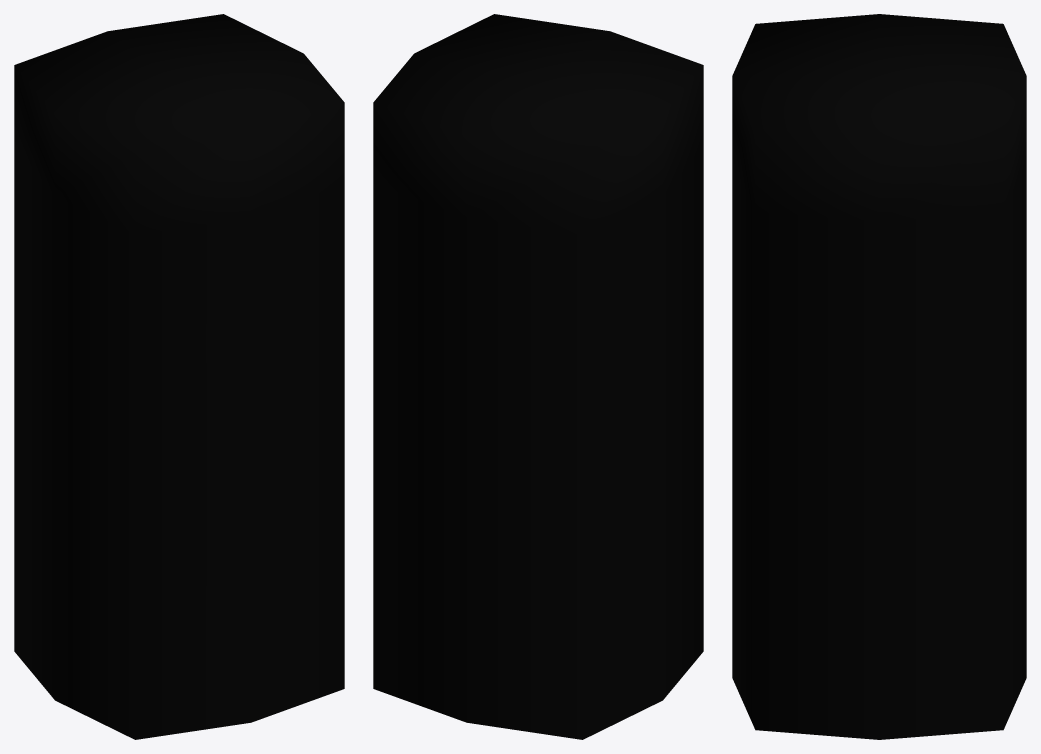
3 renders of one model, left to right at view 1: azimuth 30°, elevation 25°; view 2: azimuth 150°, elevation 25°; view 3: azimuth 270°, elevation 25°, orthographic. The views are drawn at different scales.
Parts seen in each view (by area): view 1: T1L3M004_0; view 2: T1L3M004_0; view 3: T1L3M004_0.
Boxes of the visible parts, x1,y1,x2,y2 form: T1L3M004_0: [14, 14, 344, 739]; T1L3M004_0: [373, 14, 703, 739]; T1L3M004_0: [732, 14, 1026, 739].
Size of the model in its own units: 1.77 by 4 by 1.77.
